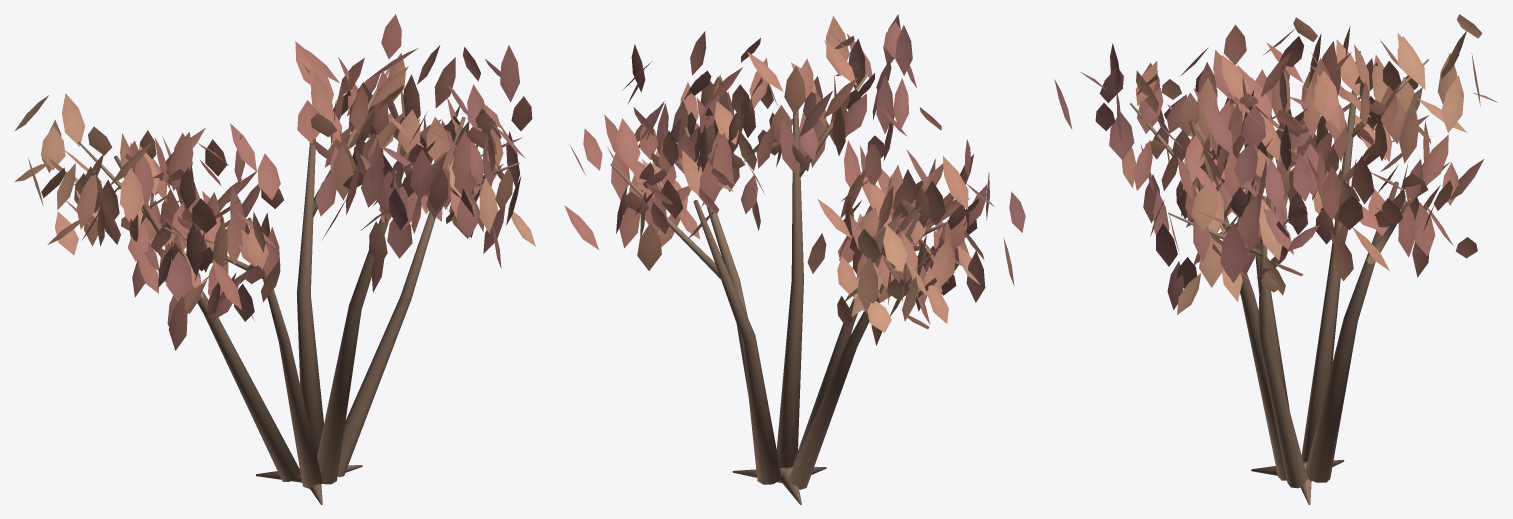
Rendered from bush_3d_03_red.glb.
3 views of the same model, side by side, from view 1: azimuth 30°, elevation 25°; view 2: azimuth 150°, elevation 25°; view 3: azimuth 270°, elevation 25° (orthographic). The views are drawn at different scales.
Parts seen in each view (by area): view 1: bush_3d_03_red_foliage, bush_3d_03_red_wood; view 2: bush_3d_03_red_foliage, bush_3d_03_red_wood; view 3: bush_3d_03_red_foliage, bush_3d_03_red_wood.
Boxes of the visible parts, x1,y1,x2,y2 form: bush_3d_03_red_foliage: [14, 14, 535, 350]; bush_3d_03_red_wood: [78, 67, 519, 504]; bush_3d_03_red_foliage: [564, 14, 1025, 345]; bush_3d_03_red_wood: [610, 69, 945, 504]; bush_3d_03_red_foliage: [1054, 14, 1497, 314]; bush_3d_03_red_wood: [1130, 51, 1428, 504].
Bounding box in the file's own units: 1.97 × 1.94 × 1.84.
